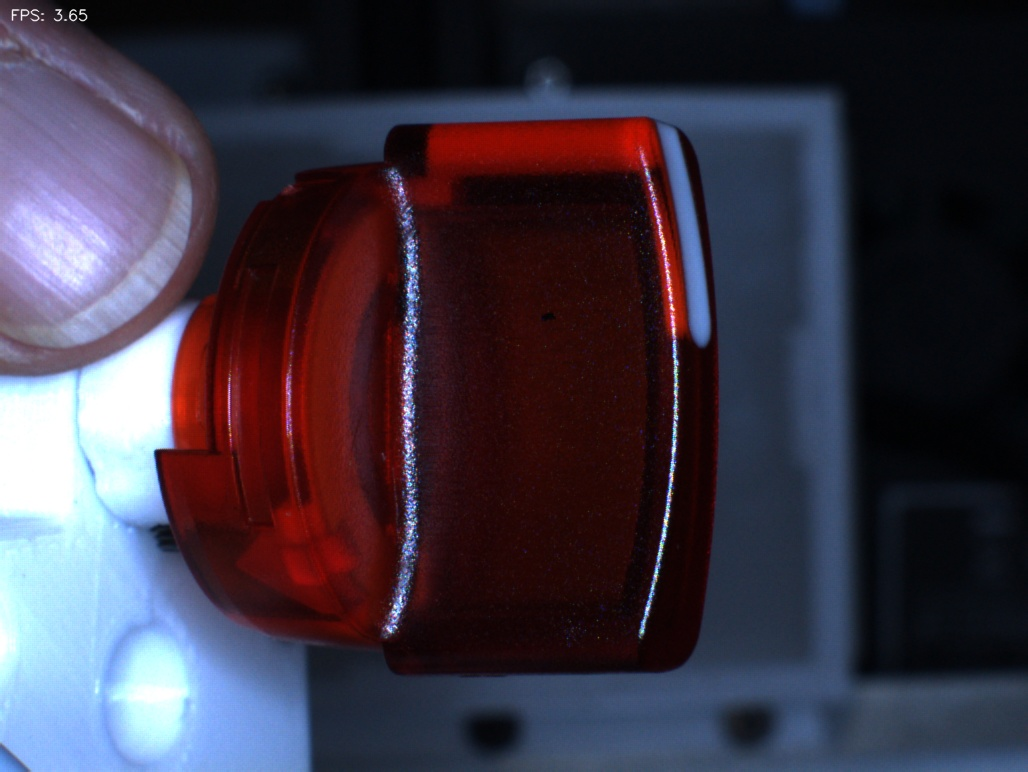PointNoir: (492, 266, 599, 363)
